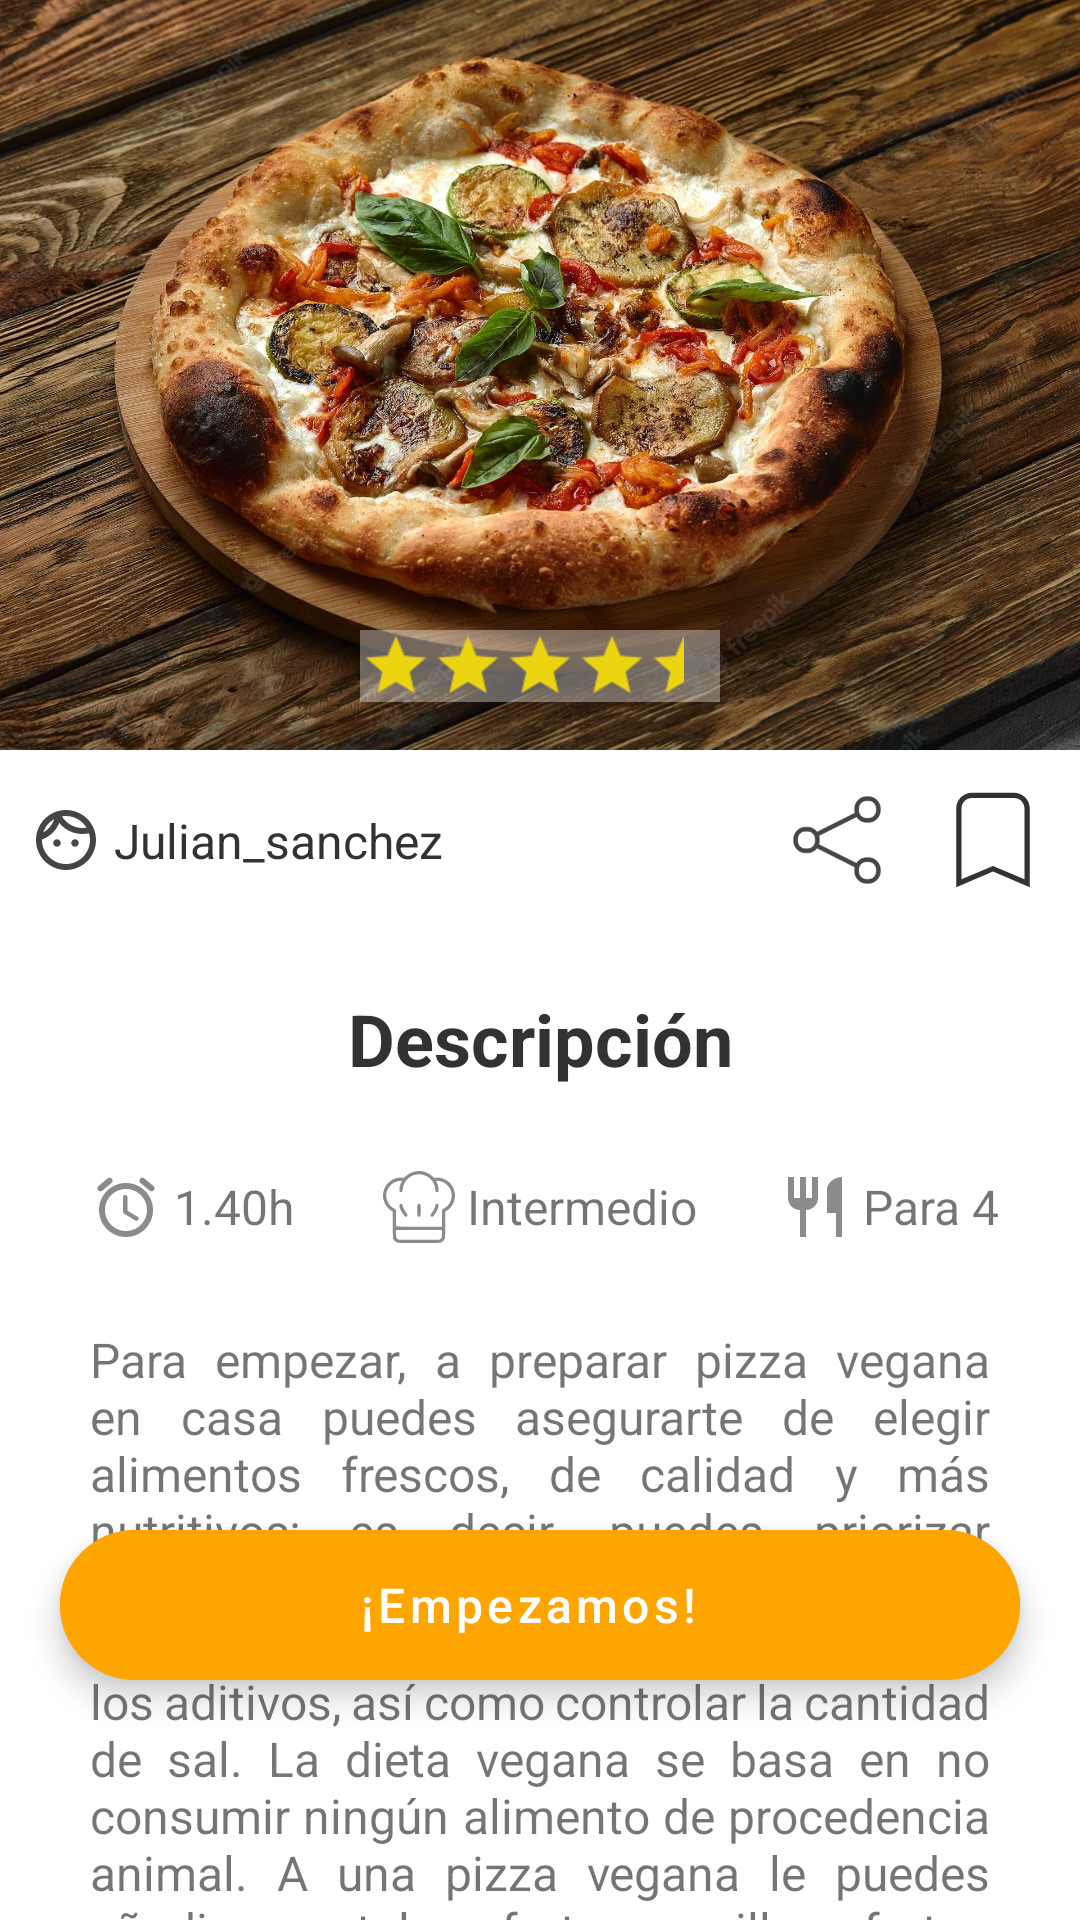

Icons on this 1080px x 1920px Android screen, each with its box as (x1, y1, x2, y2):
chef: (383, 1171, 455, 1243)
clock: (97, 1177, 155, 1237)
favorites: (956, 792, 1030, 887)
flatware: (788, 1177, 842, 1237)
share: (793, 796, 881, 884)
user: (36, 810, 96, 870)
